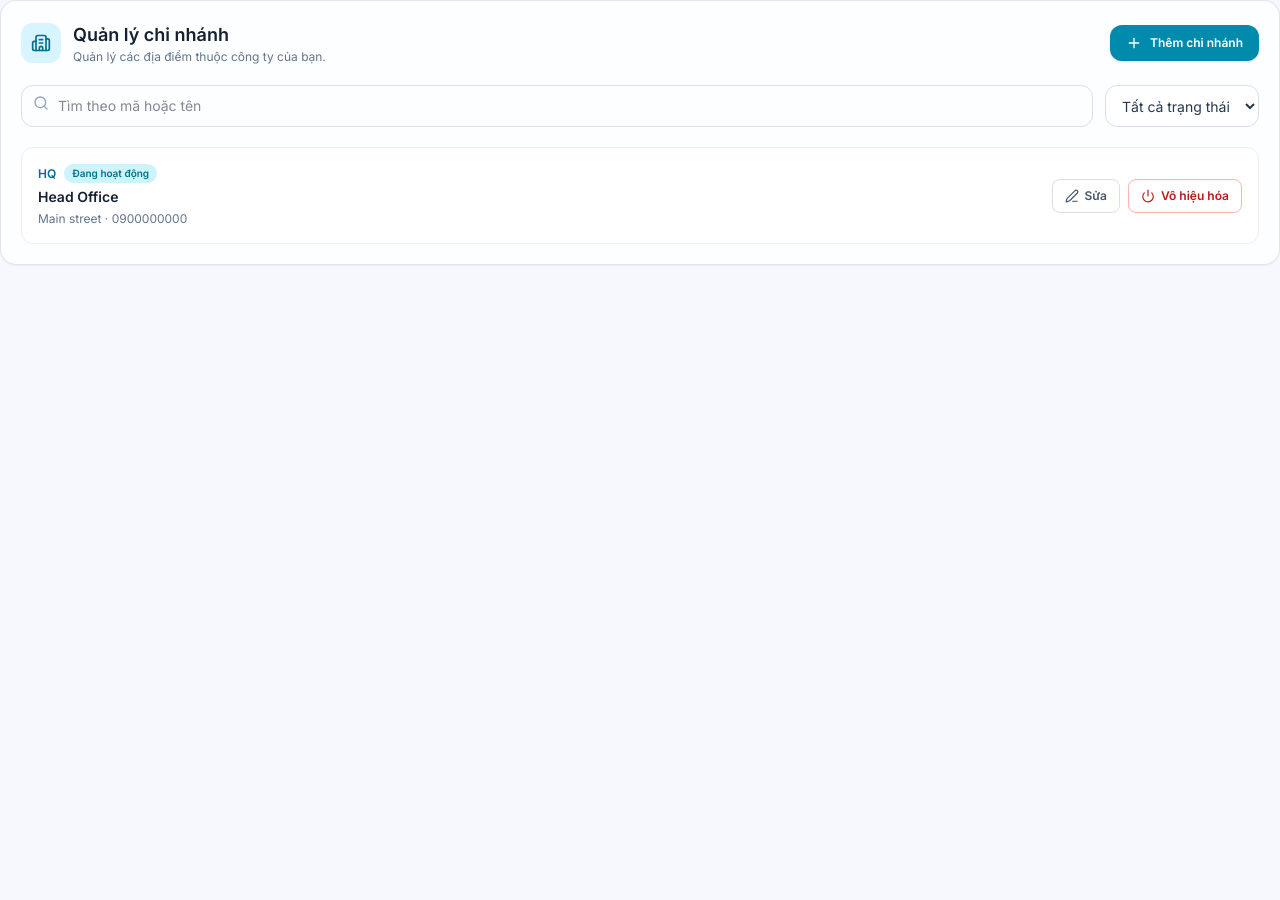
it: BranchManagementTab › captures the current coordinates and public IP
This screenshot has width=1280, height=900.
Expected: the heading "Head Office" is shown, [38, 188, 118, 205]
Click the button "Thêm chi nhánh" at (1184, 43), box [1110, 25, 1259, 61]
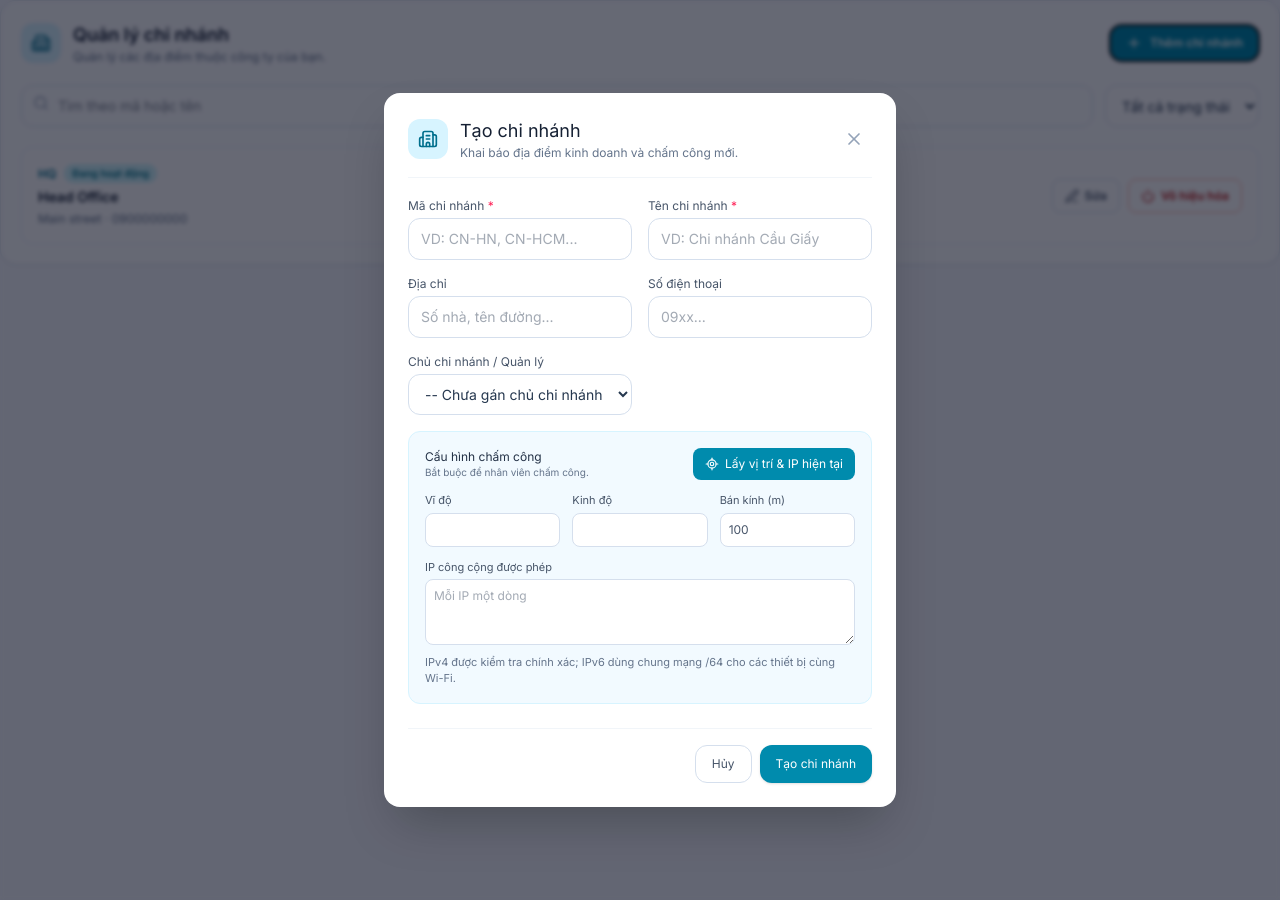
Click the button "Lấy vị trí & IP hiện tại" at (774, 464), box [693, 448, 855, 480]
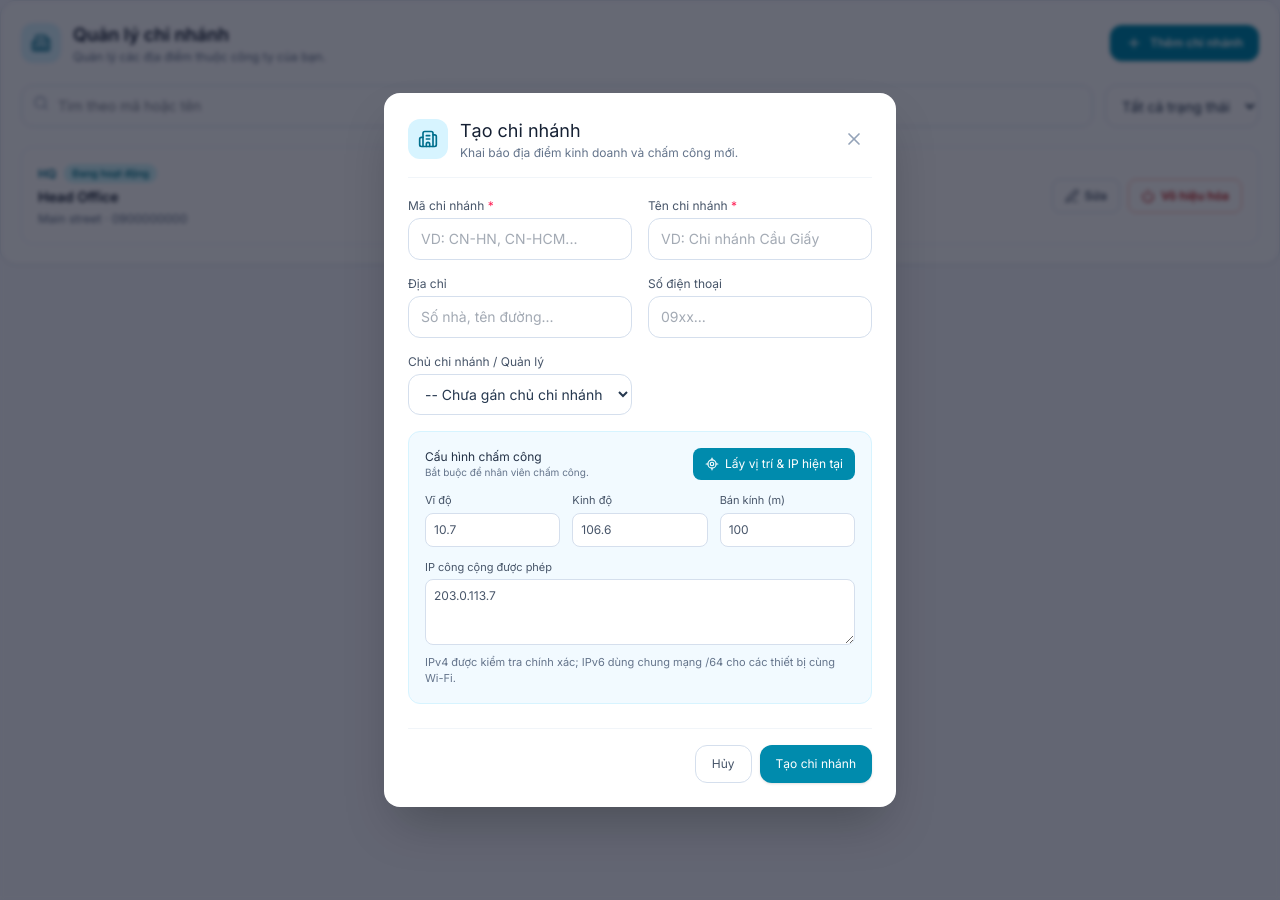
Expected: the number field labelled "Vĩ độ" holds "10.7", [425, 513, 560, 547]
Expected: the text box labelled "IP công cộng được phép" holds "203.0.113.7", [425, 579, 855, 645]
